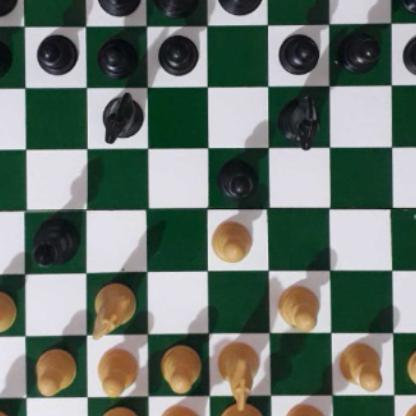black-bishop: (28, 216, 83, 267), (93, 0, 143, 14)
black-king: (217, 0, 266, 19)
black-knight: (277, 92, 319, 148), (101, 90, 142, 140)
black-pawn: (217, 154, 259, 200), (278, 28, 319, 73), (35, 29, 76, 74), (157, 30, 196, 76), (97, 33, 136, 78), (340, 29, 379, 73), (402, 30, 416, 76), (0, 34, 10, 75)
black-queen: (152, 0, 204, 20)
black-rook: (0, 0, 18, 16), (400, 0, 416, 12)
white-bishop: (282, 404, 331, 416), (93, 405, 143, 416)
white-king: (217, 398, 266, 416)
white-knight: (216, 340, 262, 411), (89, 278, 134, 337)
white-pawn: (337, 338, 383, 389), (276, 281, 320, 329), (158, 342, 200, 391), (96, 347, 138, 396), (32, 345, 75, 392), (209, 218, 251, 262), (0, 290, 16, 335), (406, 343, 416, 393)
white-queen: (154, 404, 207, 416)
white-rook: (404, 397, 416, 416), (0, 402, 12, 416)
